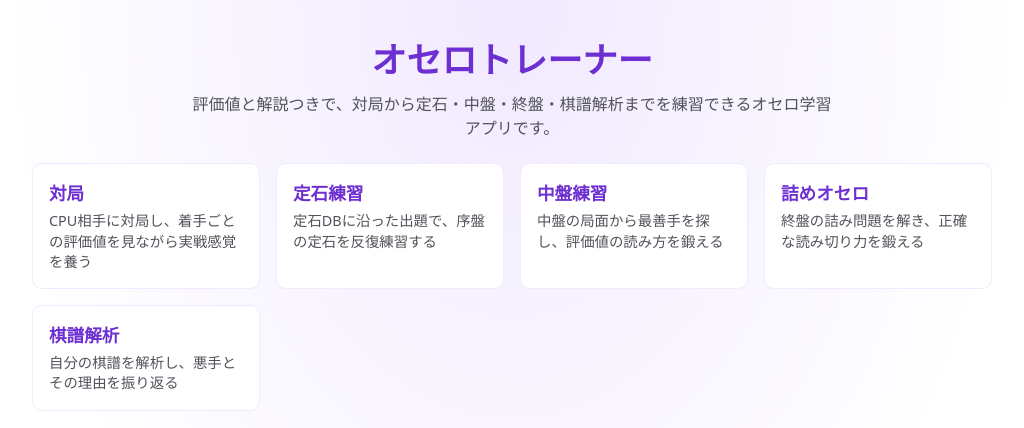
T136要件2: 対局モードの状態分離 › 対局開始前はセットアップカードのみ表示され、盤面エリア(バッジ・盤)は表示されない
Click the button with class "title-screen__card" that starts with "CPU相手に対局し、着手ごとの評価値を見ながら実戦感覚を養う" at (146, 226), box [32,163,260,289]
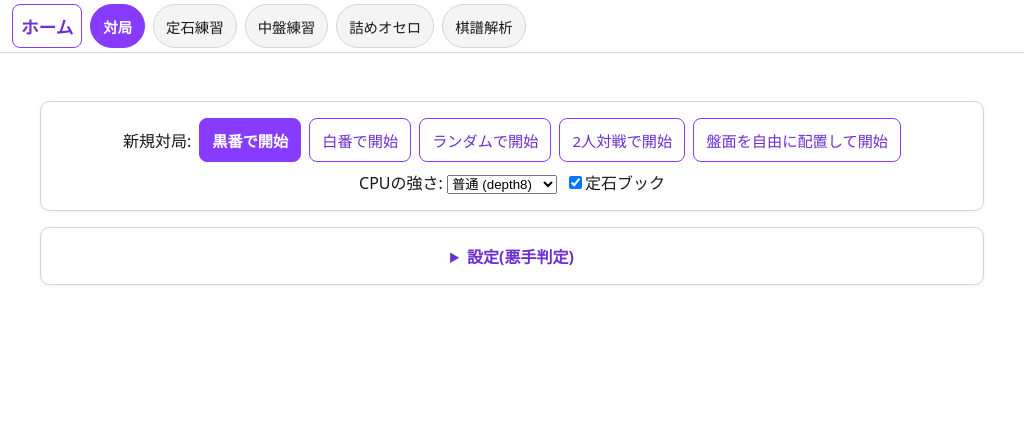
Expected: the button "黒番で開始" is shown, [199,118,301,162]
Expected: the button "白番で開始" is shown, [309,118,411,162]
Expected: the button "ランダムで開始" is shown, [419,118,551,162]
